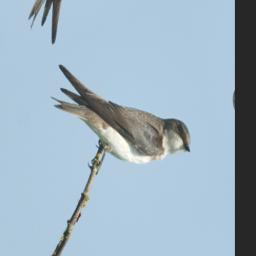Swallow: (43, 12, 195, 210)
